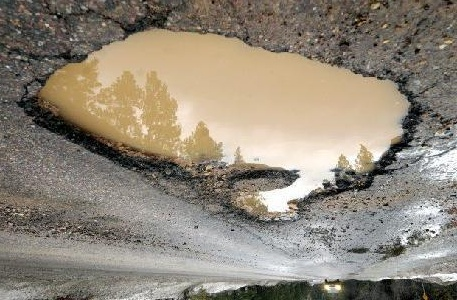pothole: (15, 22, 424, 228)
